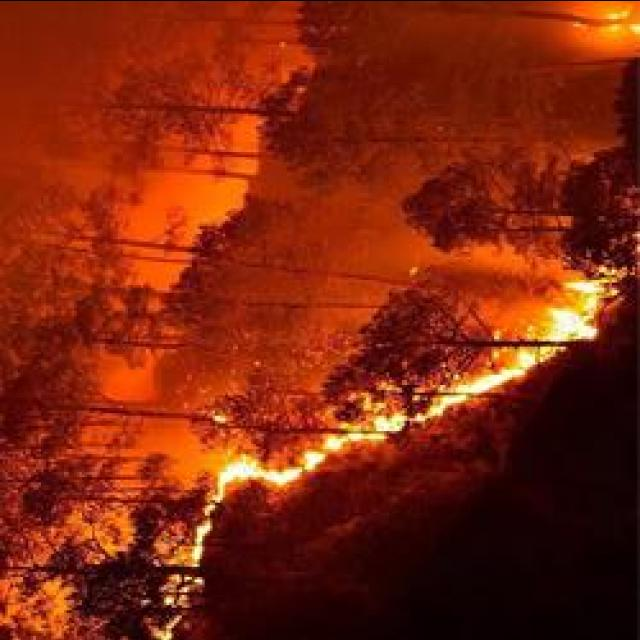fire: (532, 276, 612, 344), (163, 518, 206, 640), (222, 450, 334, 490), (573, 1, 640, 49)
smoke: (254, 184, 418, 268), (124, 174, 230, 220), (143, 423, 193, 459)
